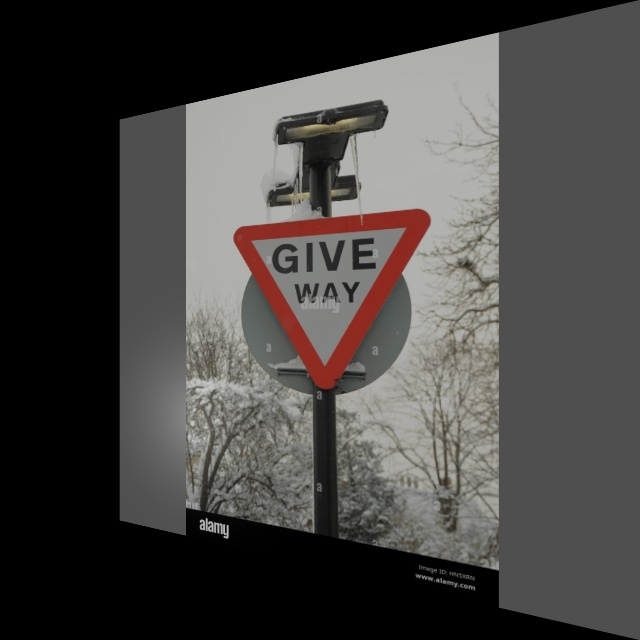Give_Way: (235, 207, 427, 399)
